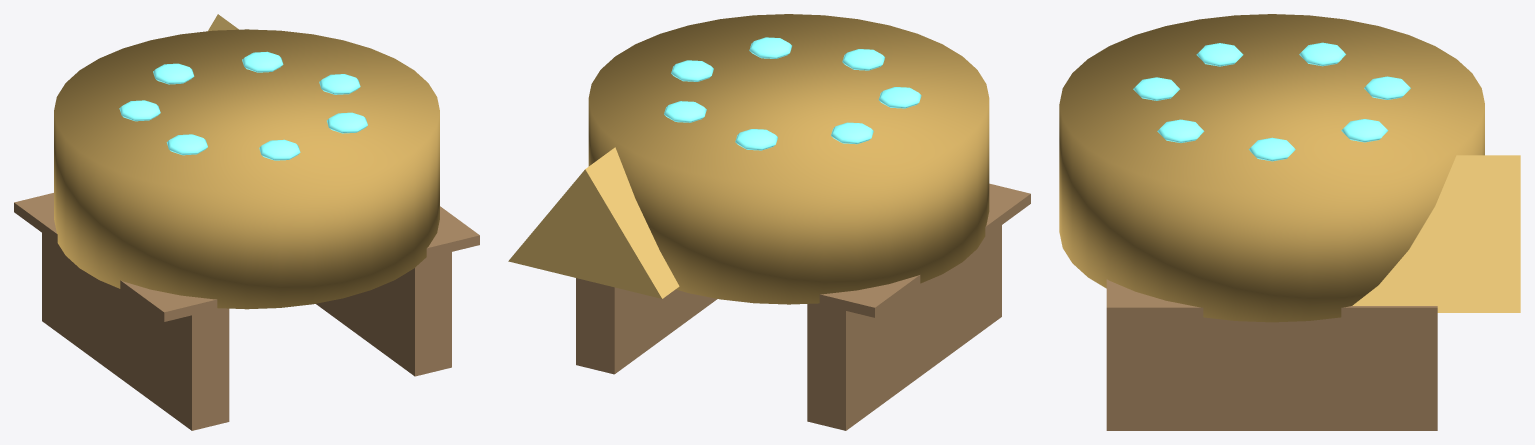
File: world_wheel_cheese.glb
3 views of the same model, side by side, from view 1: azimuth 30°, elevation 25°; view 2: azimuth 150°, elevation 25°; view 3: azimuth 270°, elevation 25° (orthographic). The views are drawn at different scales.
Visible parts, largest first — view 1: world_wheel_cheese; view 2: world_wheel_cheese; view 3: world_wheel_cheese.
Boxes of the visible parts, left/top/right/bottom form: world_wheel_cheese: left=14, top=14, right=479, bottom=430; world_wheel_cheese: left=508, top=14, right=1030, bottom=430; world_wheel_cheese: left=1059, top=14, right=1520, bottom=430.
Size of the model in its own units: 1.8 by 1.25 by 1.95.
